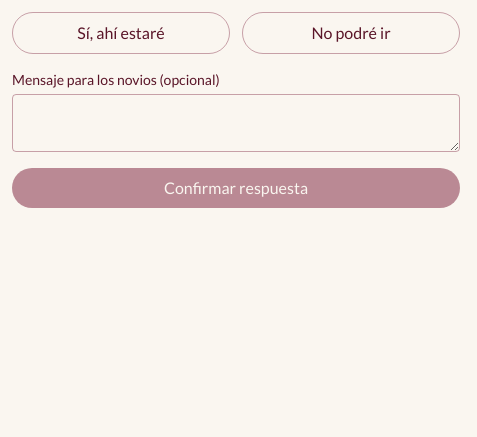
Test: RsvpForm › muestra un error si falla el envío
Click the button "Sí, ahí estaré": (121, 33) 12,12 -> 230,54
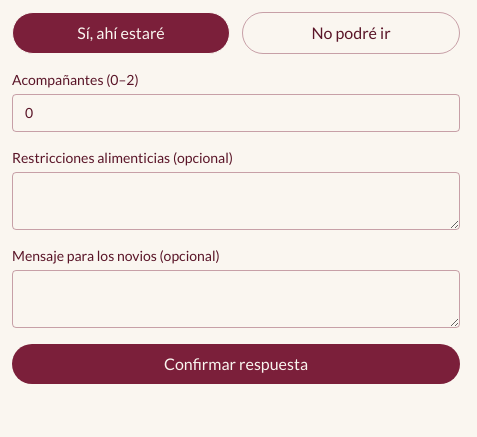
Click the button "Confirmar respuesta": (236, 364) 12,344 -> 460,384
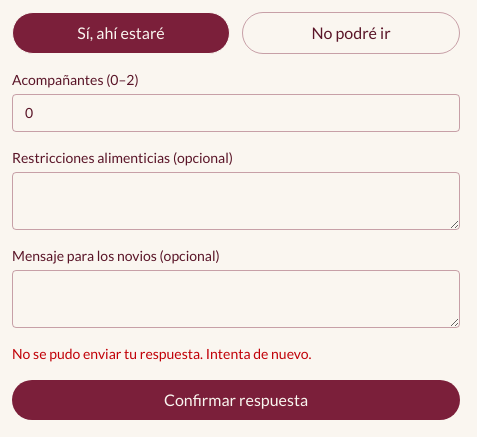
Expected: the text "No se pudo enviar tu respuesta. Intenta de nuevo." is shown, 12,345 -> 312,362
